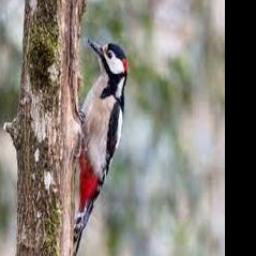Woodpecker: (73, 37, 127, 256)
